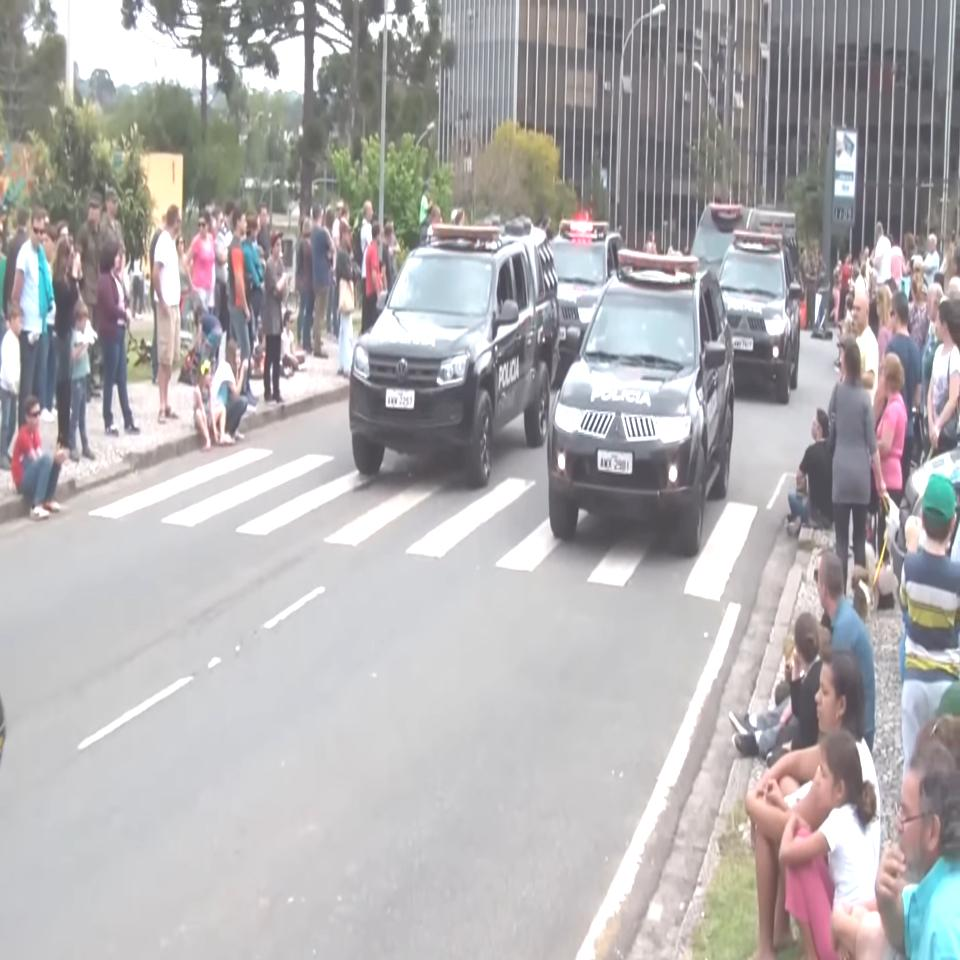viatura: (545, 246, 740, 552), (349, 216, 559, 486)
